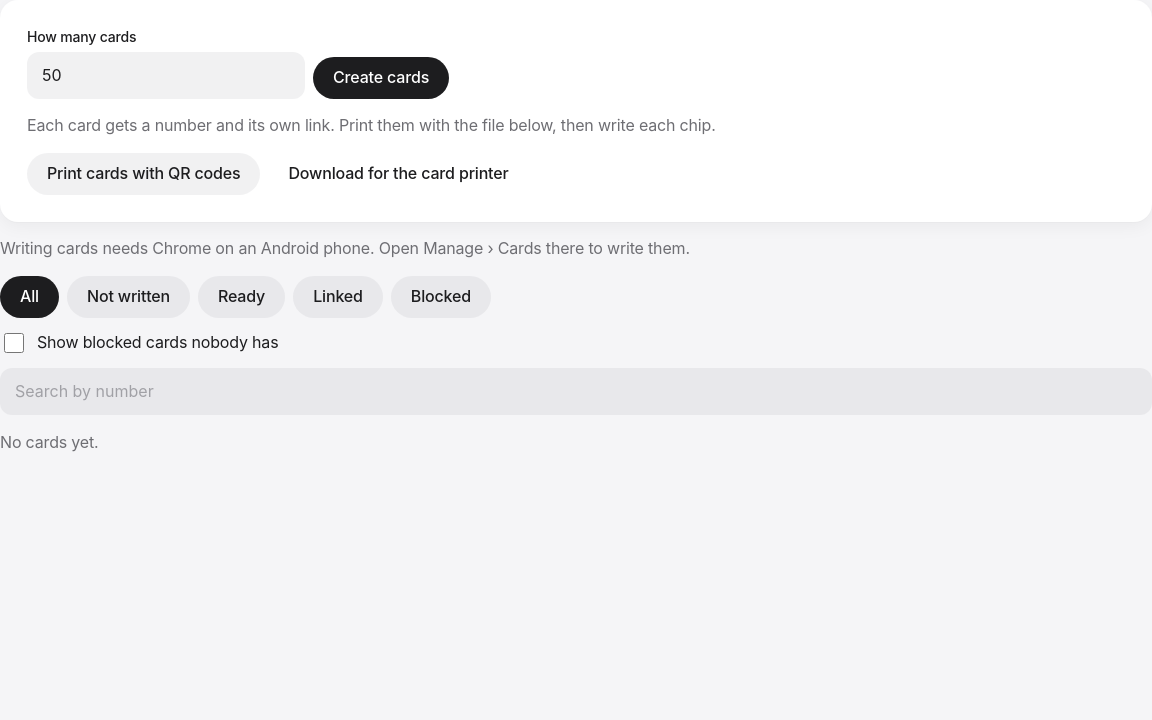
Test case: CardsTab › creates cards and offers the file for the card printer
The image size is (1152, 720).
Replace the text in the field labelled "How many cards" with "3" at (166, 75), box [27,52,305,99]
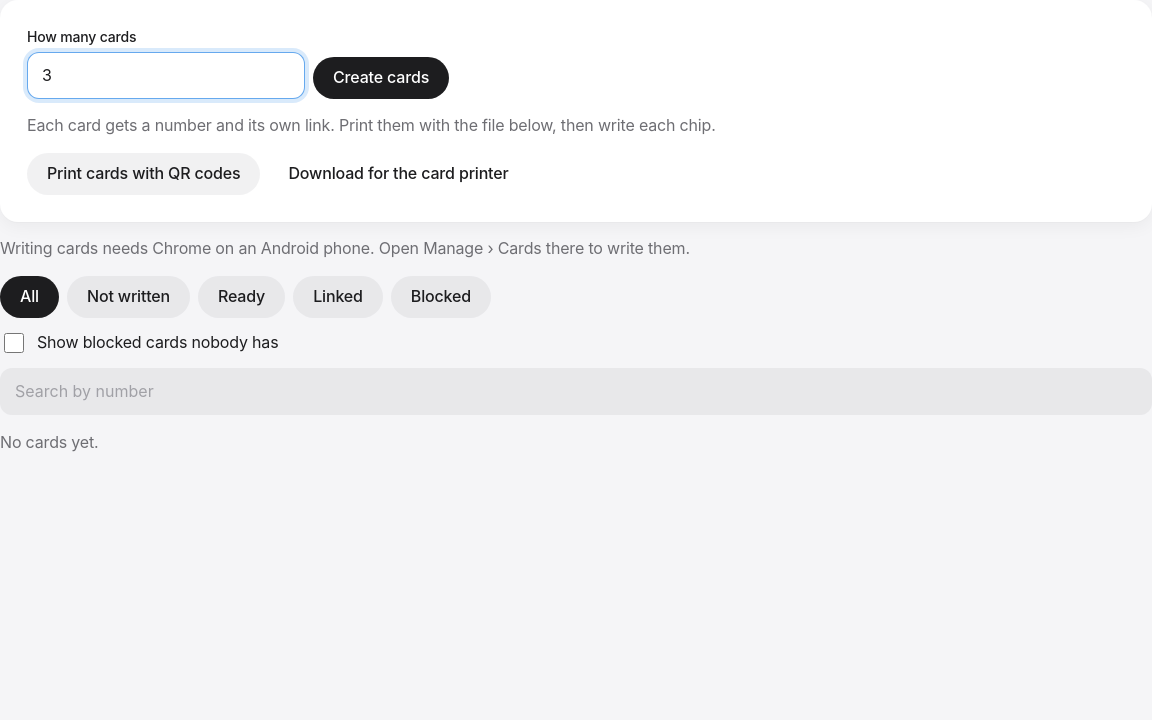
Click the button "Create cards" at (381, 78), box [313,57,449,99]
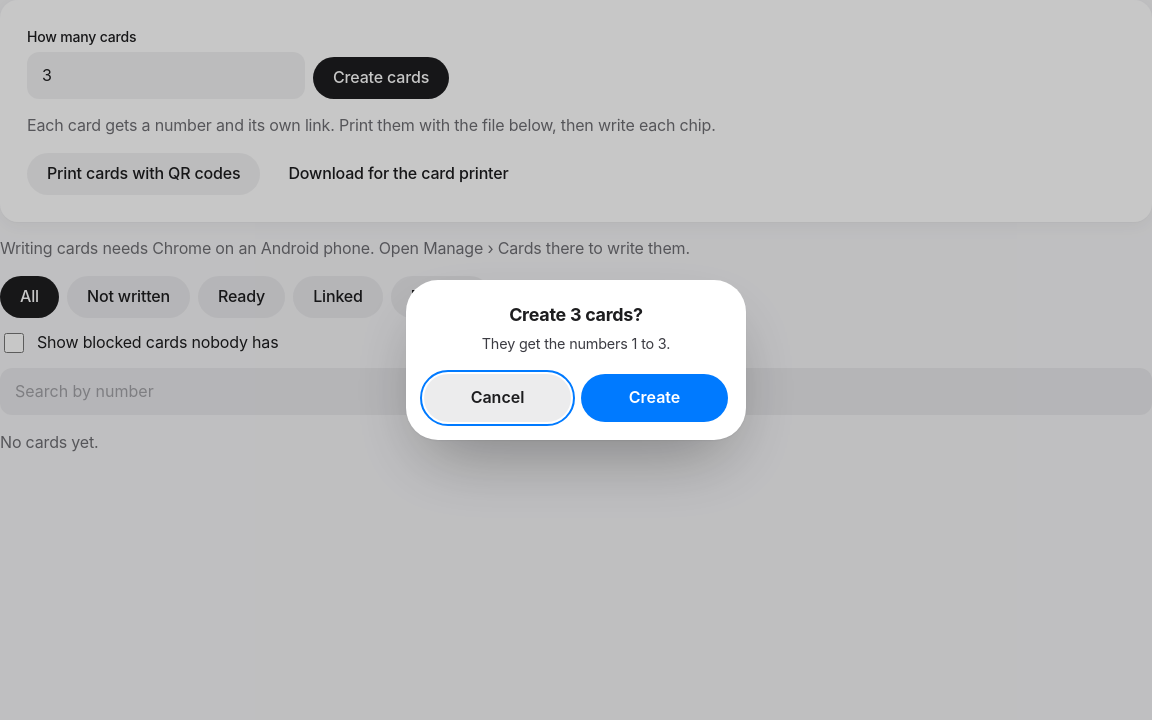
Now the text "They get the numbers 1 to 3." is shown, box [482,335,670,352]
Click the button "Create" at (654, 398), box [581,374,728,422]
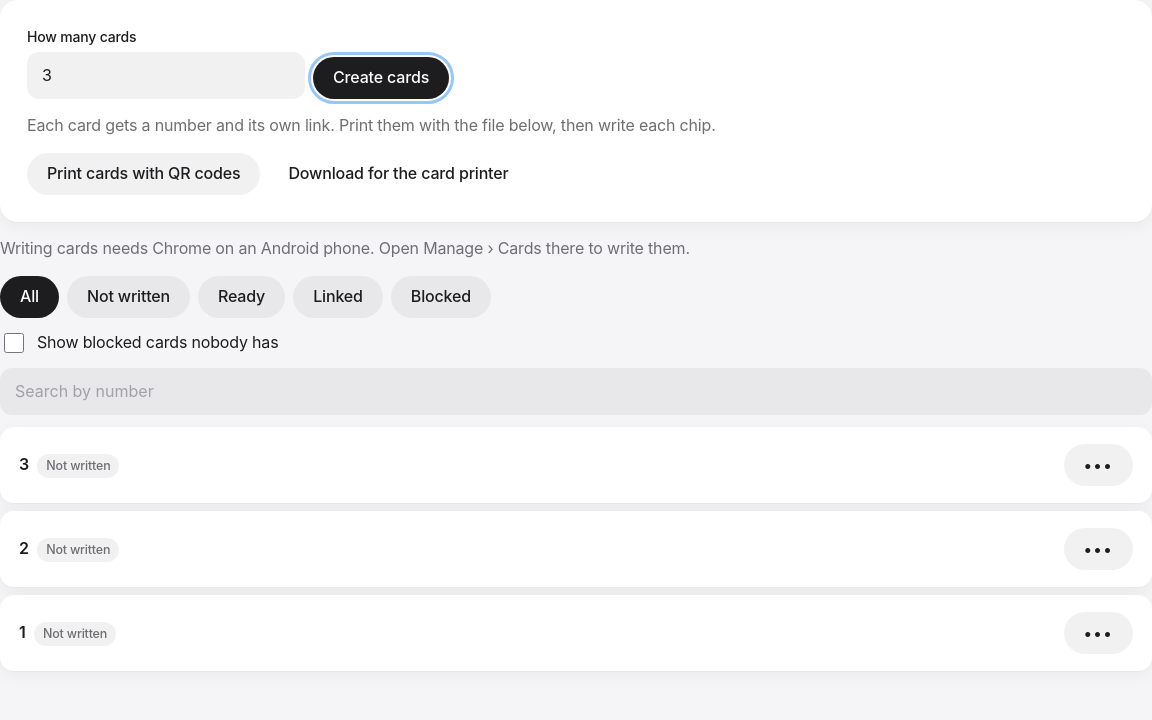
Now the text "3" is shown, box [19,454,29,474]
Now the text "Not written" is shown 3 times, box [37,454,119,478]; [37,538,119,562]; [34,622,116,646]
